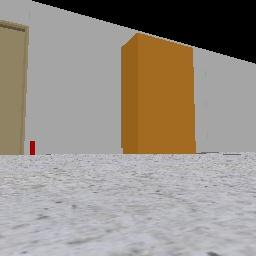rosu: (30, 141, 34, 154)
tonomat: (122, 33, 194, 153)
